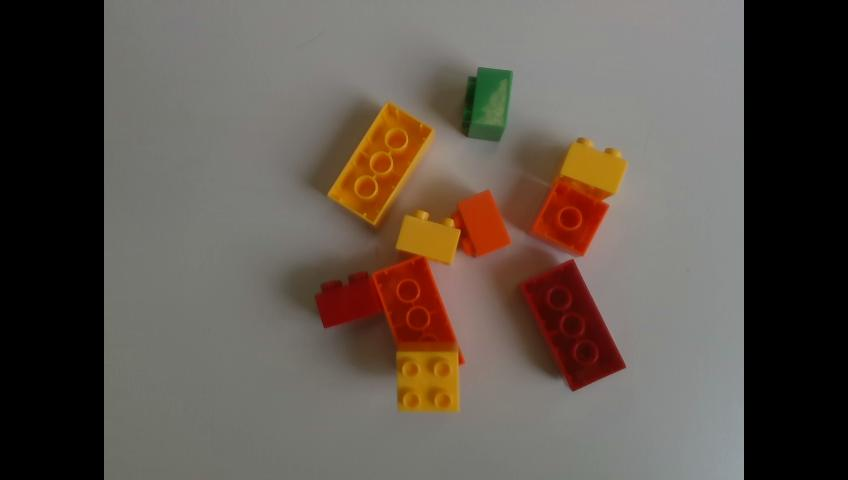2x2_green: (462, 67, 513, 142)
2x2_orange: (527, 181, 609, 258), (450, 190, 514, 259)
2x2_red: (313, 269, 383, 329)
2x2_yellow: (396, 340, 461, 414), (552, 137, 628, 200), (396, 208, 461, 266)
4x2_orange: (369, 254, 466, 366)
4x2_red: (516, 258, 625, 393)
4x2_yellow: (328, 100, 435, 232)
